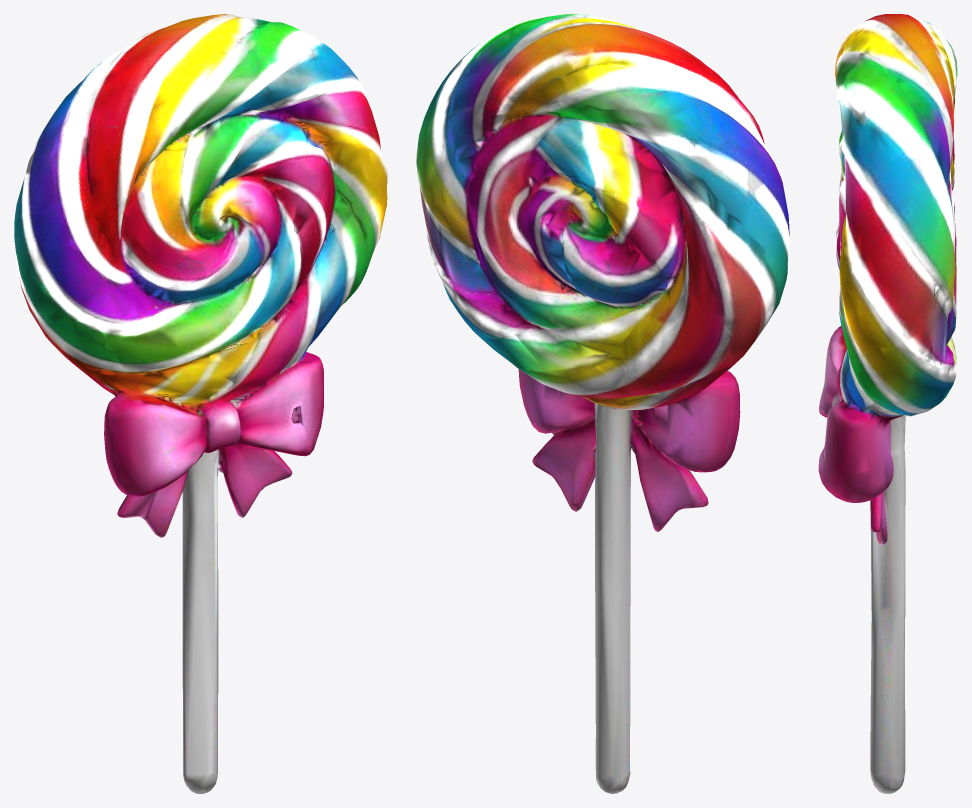
3 renders of one model, left to right at view 1: azimuth 30°, elevation 25°; view 2: azimuth 150°, elevation 25°; view 3: azimuth 270°, elevation 25°, orthographic.
Visible parts, largest first — view 1: Mesh_0; view 2: Mesh_0; view 3: Mesh_0.
Boxes of the visible parts, x1,y1,x2,y2 form: Mesh_0: [14, 14, 387, 793]; Mesh_0: [416, 14, 789, 793]; Mesh_0: [818, 14, 957, 793].
Bounding box in the file's own units: 0.9186 × 1.9 × 0.3138.
Materials: 1 (1 with a texture image).
